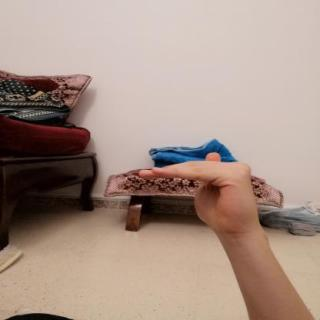KHAA: (125, 147, 268, 241)
